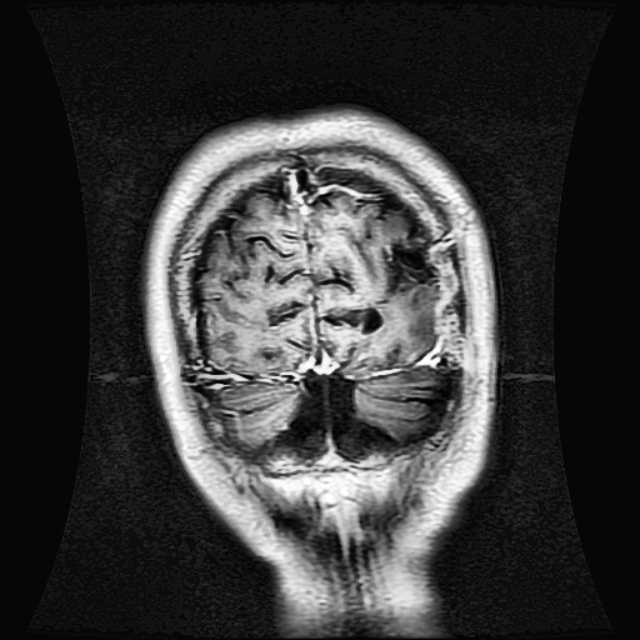Meningioma: (382, 233, 435, 297)
